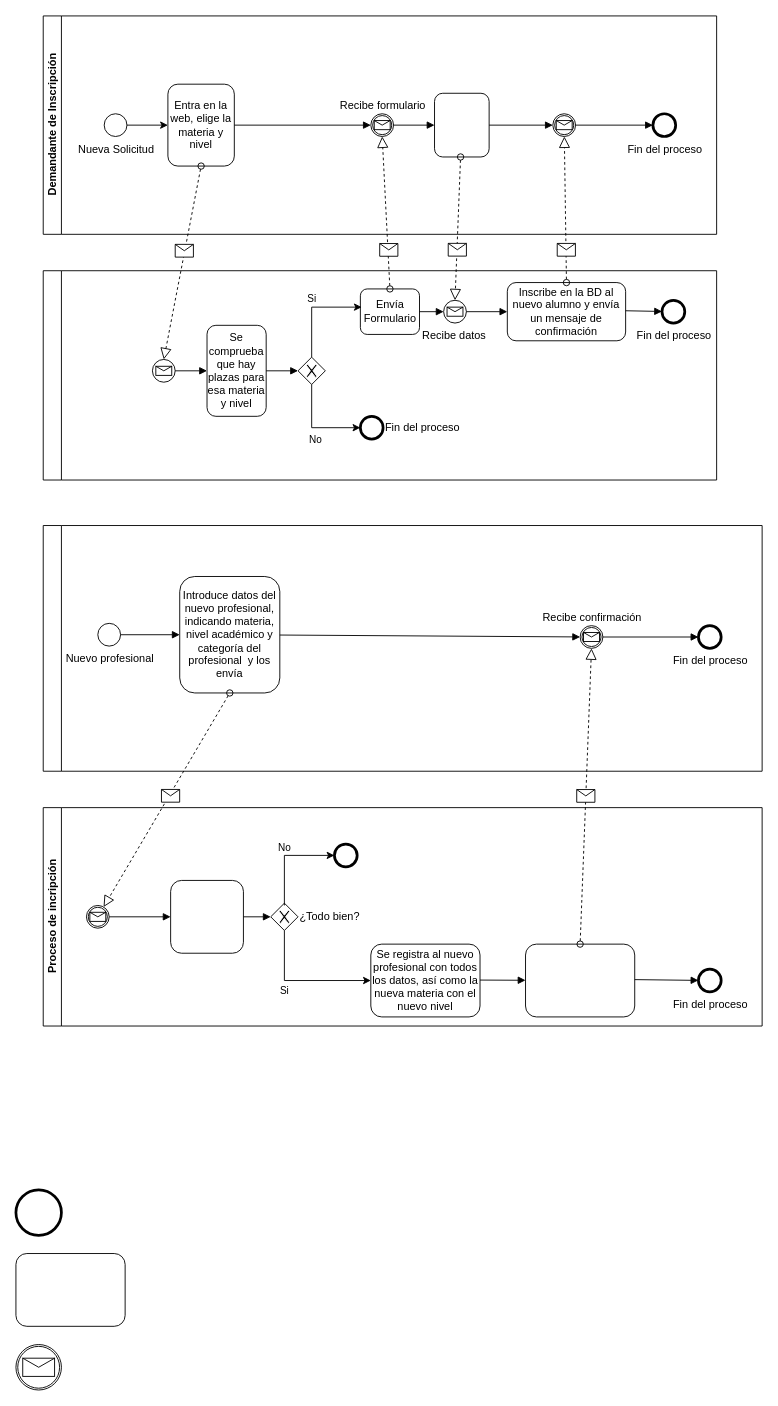
Image size: 778x1406. Some labels were removed from this diagram. The box of each missing label's shape, as (x1, y1, x2, y2) in pixels:
Comprueba los datos recibidos: (170, 880, 243, 953)
Envia mensaje de confirmación: (525, 943, 635, 1017)
Proceso de Inscripción: (42, 270, 717, 480)
Propietario K+: (42, 525, 762, 771)
Recibe confirmación e información sobre su grupo: (552, 113, 576, 136)
Reinicio del proceso, notificando errores: (334, 843, 357, 867)
Rellena formulario y lo envia: (434, 92, 489, 157)
Task: (15, 1253, 125, 1326)
¿Se acepta?: (297, 356, 325, 384)
